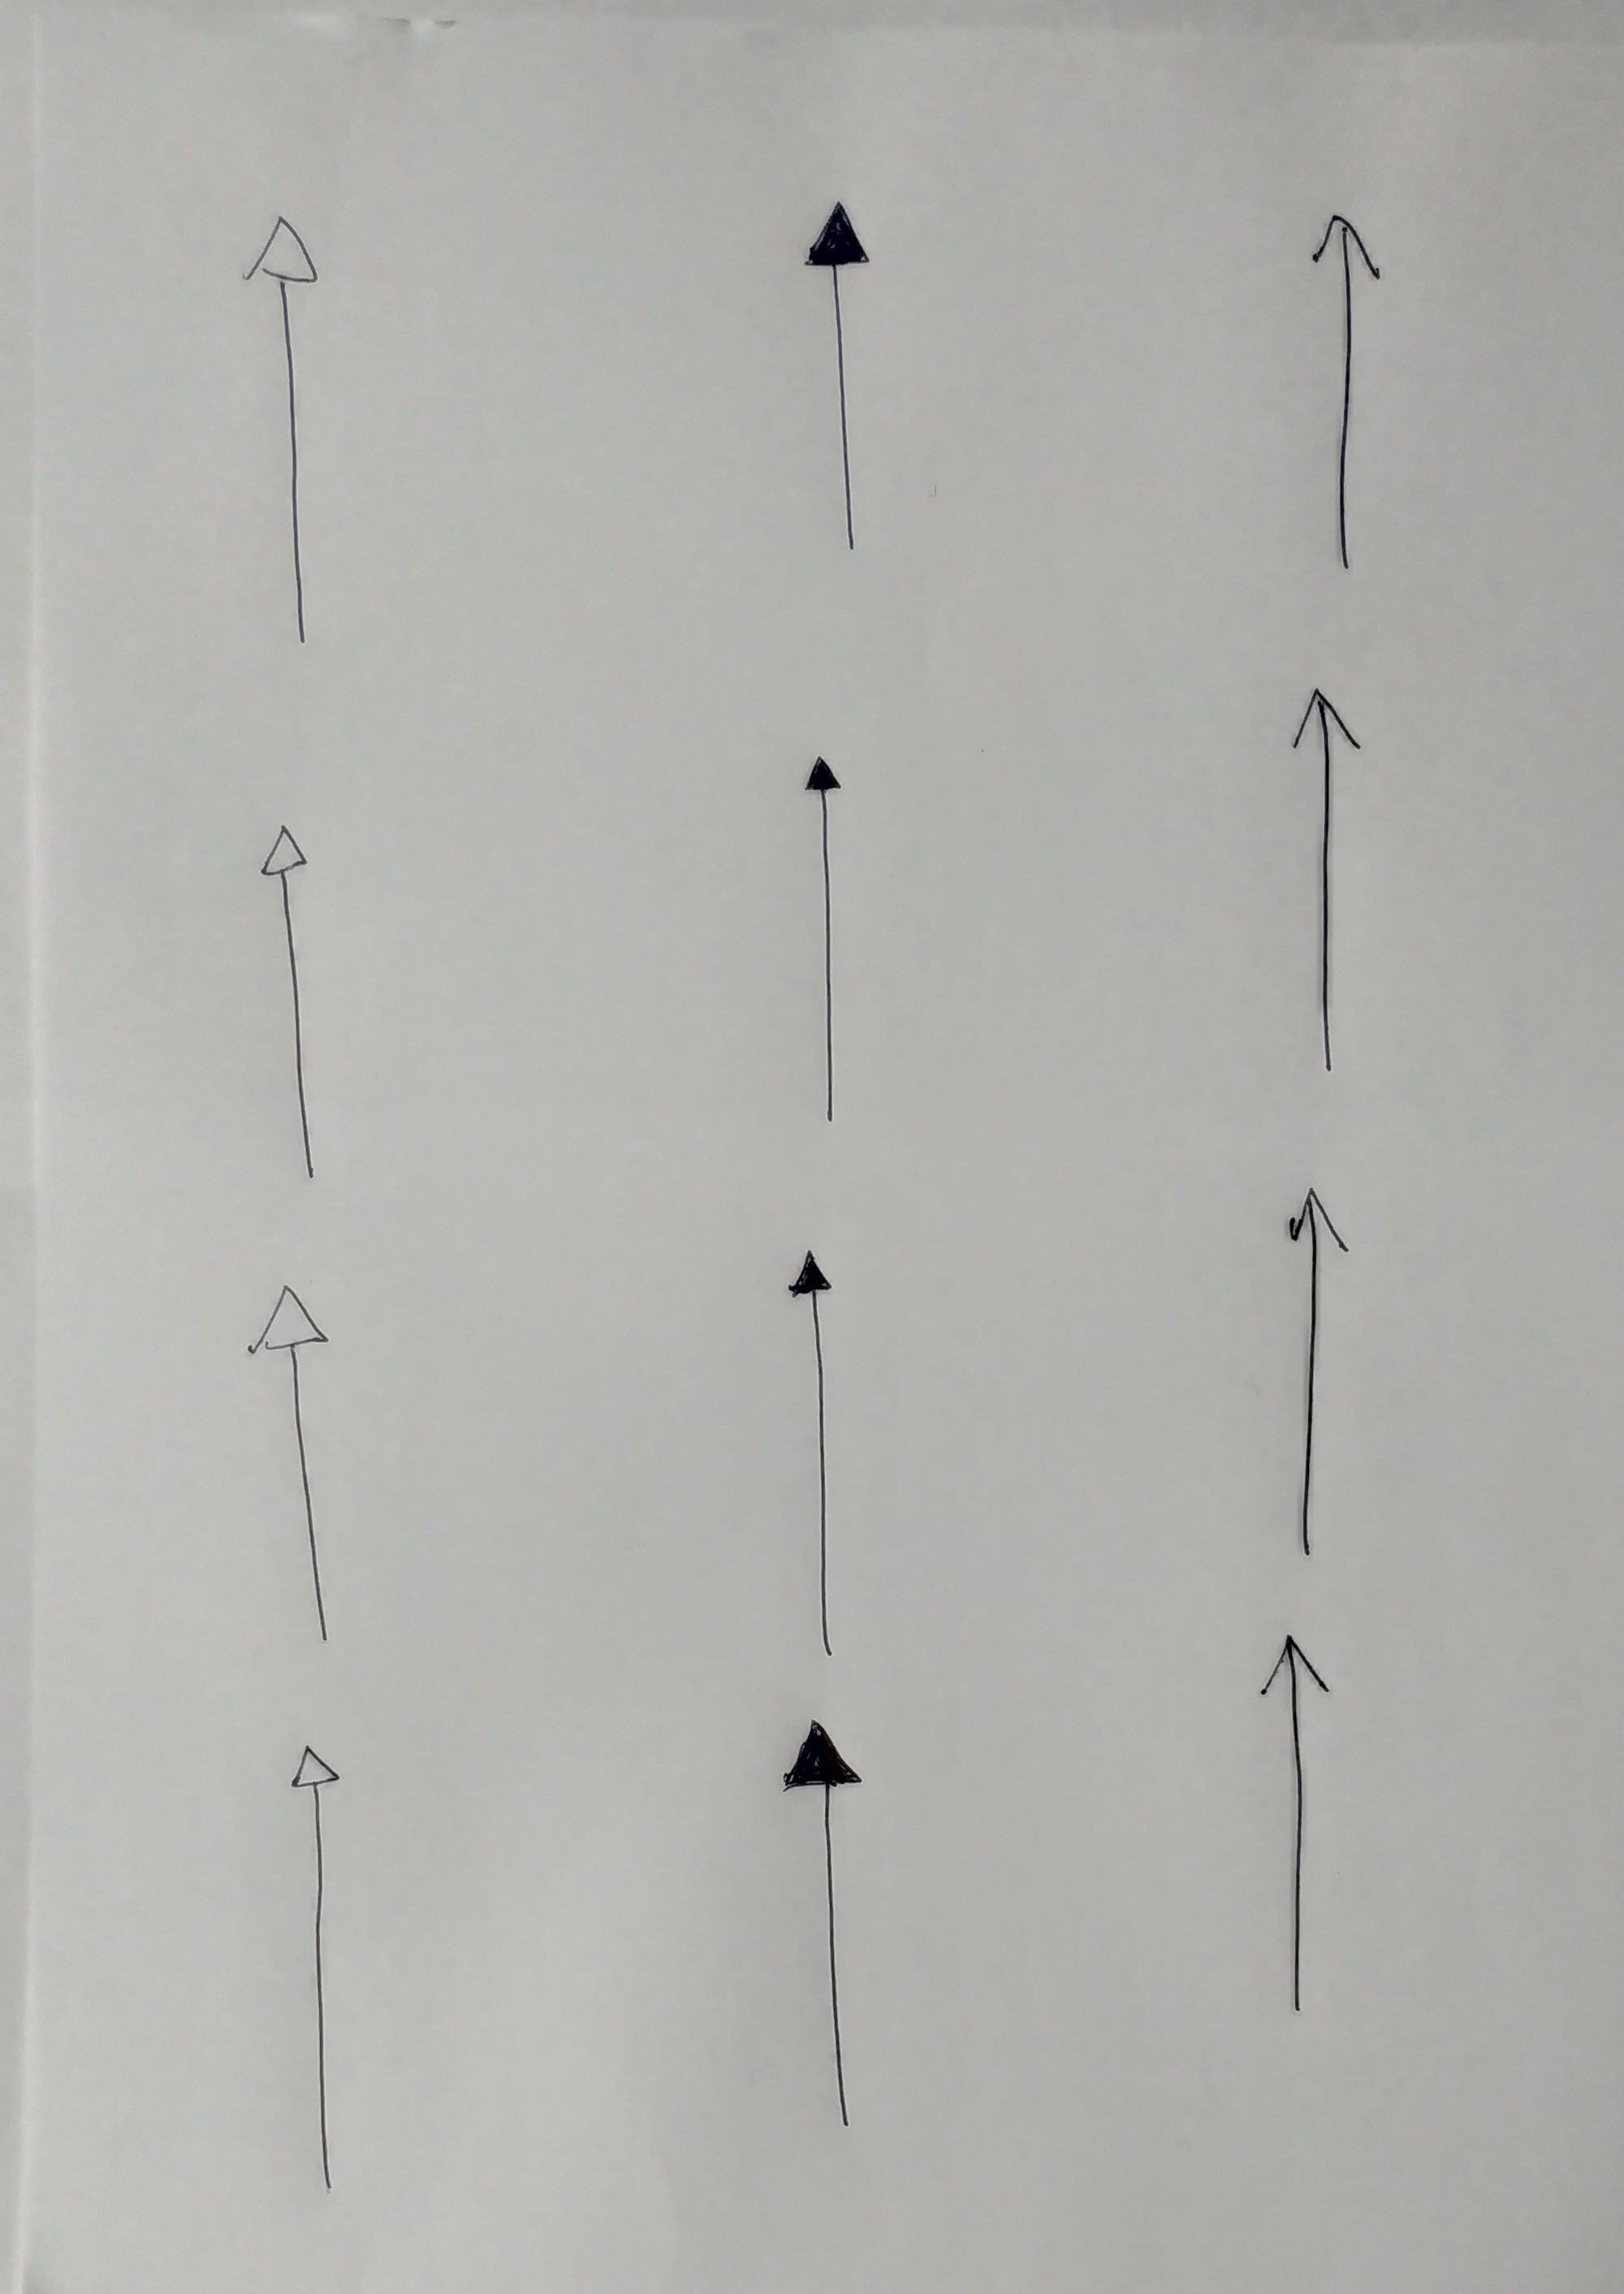arrow_line_up: (768, 1721, 881, 2145), (243, 1280, 359, 1654), (243, 213, 337, 661), (243, 812, 352, 1195), (274, 1735, 362, 2194), (1251, 1635, 1346, 2027), (1294, 216, 1392, 577), (1283, 682, 1371, 1081), (800, 192, 888, 580), (782, 1245, 863, 1661), (1272, 1187, 1357, 1575), (800, 747, 863, 1134)
